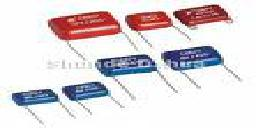Electrolytic Capacitor: (159, 44, 245, 89), (39, 8, 125, 47), (86, 51, 160, 85), (173, 2, 235, 33), (126, 6, 172, 39), (59, 81, 110, 110), (4, 88, 58, 109)
